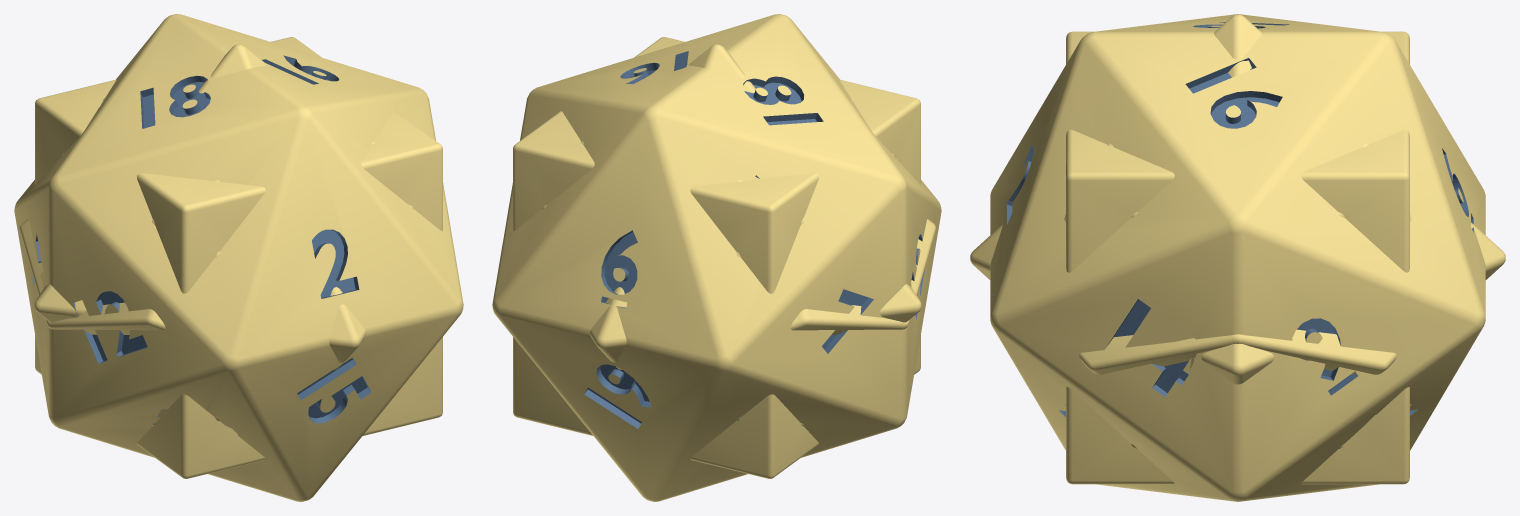
File: dice-sharp.glb
3 views of the same model, side by side, from view 1: azimuth 30°, elevation 25°; view 2: azimuth 150°, elevation 25°; view 3: azimuth 270°, elevation 25° (orthographic). The views are drawn at different scales.
Parts seen in each view (by area): view 1: d20, d6, d8, d10, d100; view 2: d20, d6, d8, d10, d100; view 3: d20, d6, d10, d8, d100.
Part boxes in pixels (box(x1,y1,x2,y2)): d20: box(14, 14, 463, 501); d6: box(35, 37, 442, 478); d8: box(34, 44, 365, 369); d10: box(20, 219, 401, 370); d100: box(22, 222, 162, 334); d20: box(492, 14, 941, 501); d6: box(513, 37, 920, 478); d8: box(590, 44, 921, 369); d10: box(554, 219, 935, 370); d100: box(793, 222, 933, 334); d20: box(990, 14, 1485, 501); d6: box(1066, 31, 1409, 484); d10: box(999, 264, 1476, 374); d8: box(970, 14, 1505, 384); d100: box(1082, 330, 1393, 374).
Bounding box in the file's own units: 2.1 × 2.1 × 2.1.
